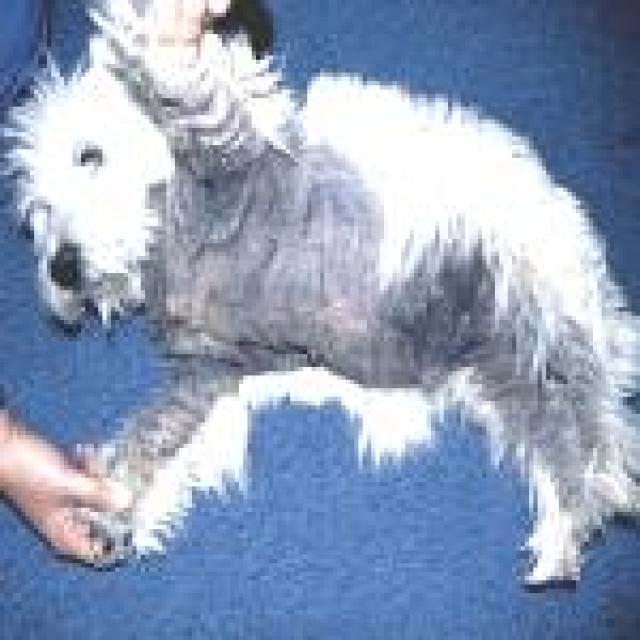fungal infection: (163, 284, 228, 352), (310, 298, 387, 346), (186, 160, 224, 195)
